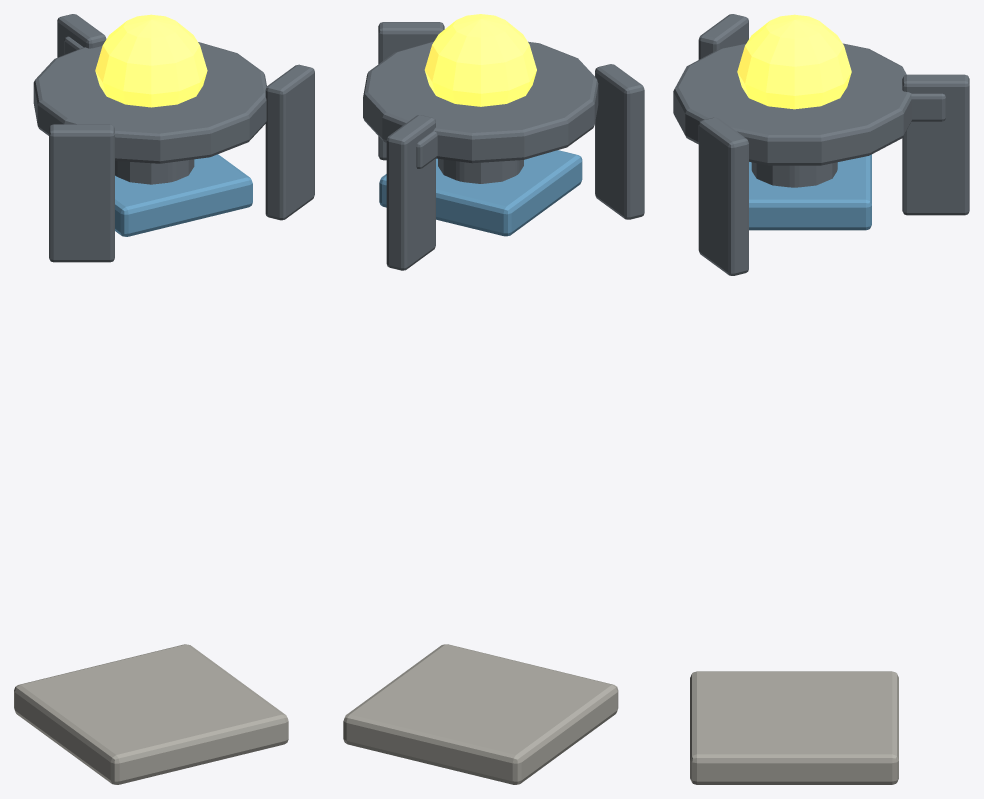
File: tower_beacon.glb
3 renders of one model, left to right at view 1: azimuth 30°, elevation 25°; view 2: azimuth 150°, elevation 25°; view 3: azimuth 270°, elevation 25°, orthographic.
Visible parts, largest first — view 1: GEO_BaseSeat, GEO_DishBowl, GEO_Fin_C, GEO_BeaconCore, GEO_Fin_B, GEO_HubTrim, GEO_DishStem, GEO_Fin_A; view 2: GEO_BaseSeat, GEO_DishBowl, GEO_BeaconCore, GEO_HubTrim, GEO_Fin_C, GEO_Fin_A, GEO_Fin_B, GEO_DishStem, GEO_EmitterSlot; view 3: GEO_BaseSeat, GEO_DishBowl, GEO_BeaconCore, GEO_Fin_A, GEO_Fin_B, GEO_HubTrim, GEO_DishStem, GEO_Fin_C, GEO_EmitterSlot.
Boxes of the visible parts, bbox=[...] form: GEO_BaseSeat: bbox=[14, 644, 288, 784]; GEO_DishBowl: bbox=[33, 42, 266, 163]; GEO_Fin_C: bbox=[49, 124, 114, 262]; GEO_BeaconCore: bbox=[95, 14, 207, 107]; GEO_Fin_B: bbox=[265, 64, 314, 220]; GEO_HubTrim: bbox=[115, 154, 252, 236]; GEO_DishStem: bbox=[115, 159, 194, 184]; GEO_Fin_A: bbox=[57, 14, 106, 57]; GEO_BaseSeat: bbox=[343, 644, 618, 784]; GEO_DishBowl: bbox=[363, 41, 598, 163]; GEO_BeaconCore: bbox=[424, 14, 536, 106]; GEO_HubTrim: bbox=[379, 150, 582, 236]; GEO_Fin_C: bbox=[595, 64, 644, 219]; GEO_Fin_A: bbox=[386, 115, 435, 270]; GEO_Fin_B: bbox=[378, 22, 444, 160]; GEO_DishStem: bbox=[438, 159, 523, 183]; GEO_EmitterSlot: bbox=[416, 131, 437, 169]; GEO_BaseSeat: bbox=[690, 671, 898, 784]; GEO_DishBowl: bbox=[673, 43, 911, 165]; GEO_BeaconCore: bbox=[737, 14, 851, 109]; GEO_Fin_A: bbox=[902, 74, 969, 215]; GEO_Fin_B: bbox=[698, 117, 748, 275]; GEO_HubTrim: bbox=[749, 154, 871, 230]; GEO_DishStem: bbox=[751, 162, 837, 187]; GEO_Fin_C: bbox=[698, 14, 748, 59]; GEO_EmitterSlot: bbox=[911, 93, 945, 121].
Bounding box in the file's own units: 0.9245 × 2.37 × 0.88.
